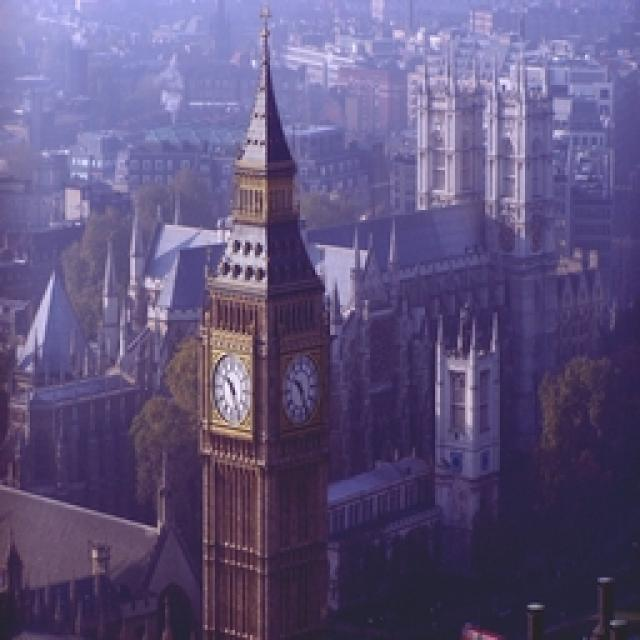Abbey: (194, 1, 339, 639)
